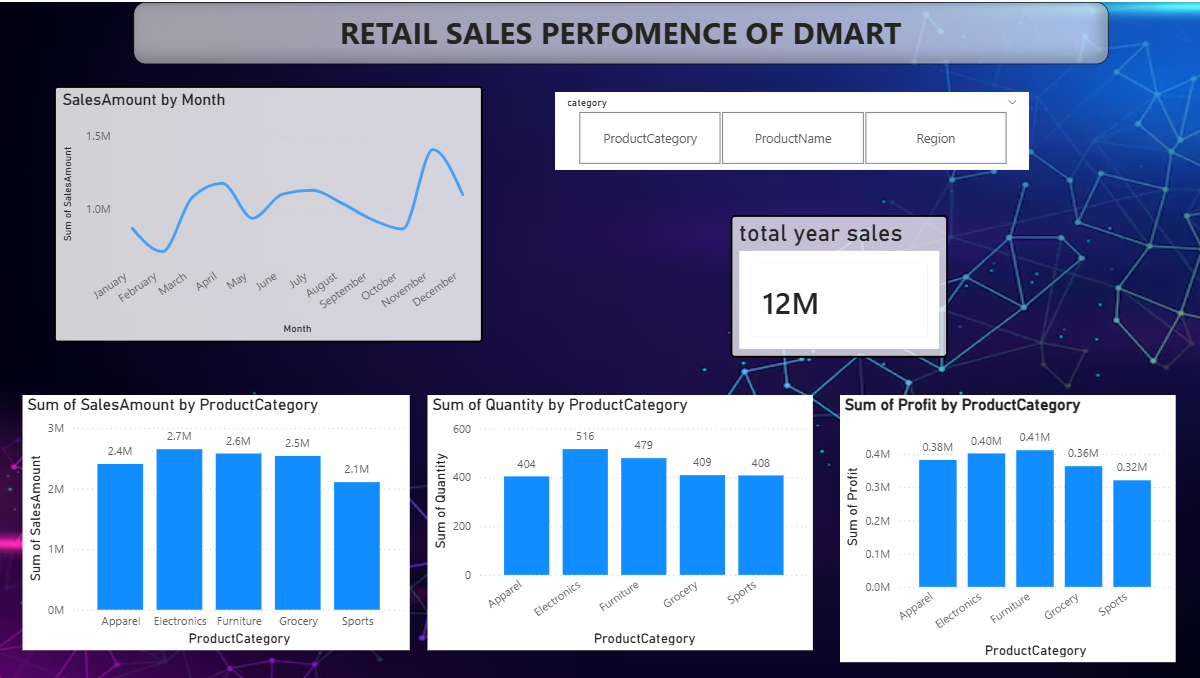

What the dashboard file says about the page in this screenshot:
{"tool":"powerbi","page":{"name":"Page 2","canvas":[1280,720],"ordinal":1},"visuals":[{"type":"textbox","box":[141.7,0,1033.7,66.1],"z":0},{"type":"lineChart","title":"SalesAmount by Month","fields":{"Y":["Sum(project data Retail_Sales_Performance.SalesAmount)"],"Category":["project data Retail_Sales_Performance.OrderDate.Variation.Date Hierarchy.Month"]},"box":[57.3,89.1,454.9,272],"z":1000},{"type":"slicer","fields":{"Values":["category 2.category"]},"box":[588.5,95.4,502.6,82.7],"z":2000},{"type":"columnChart","fields":{"Category":["project data Retail_Sales_Performance.ProductCategory","project data Retail_Sales_Performance.ProductName","project data Retail_Sales_Performance.Region"],"Y":["Sum(project data Retail_Sales_Performance.SalesAmount)"]},"box":[23.9,416.7,410.4,270.4],"z":3000},{"type":"columnChart","fields":{"Category":["project data Retail_Sales_Performance.ProductCategory","project data Retail_Sales_Performance.ProductName","project data Retail_Sales_Performance.Region"],"Y":["Sum(project data Retail_Sales_Performance.Quantity)"]},"box":[453.3,416.7,408.8,270.4],"z":4000},{"type":"columnChart","fields":{"Category":["project data Retail_Sales_Performance.ProductCategory","project data Retail_Sales_Performance.ProductName","project data Retail_Sales_Performance.Region"],"Y":["Sum(project data Retail_Sales_Performance.Profit)"]},"box":[890.7,416.7,356.3,283.1],"z":5000},{"type":"cardVisual","title":"total year sales","fields":{"Data":["project data Retail_Sales_Performance.total year sales"]},"box":[774.6,225.9,230.6,151.1],"z":5001}]}

Visuals, with their boxes in screenshot pixels (x1, y1, x2, y2), scaled from the page's 1280x720 canvas onto the 1200x678 screenshot:
textbox: [133,0,1102,62]
"SalesAmount by Month" lineChart: [54,84,480,340]
slicer - category 2.category: [552,90,1023,168]
columnChart - project data Retail_Sales_Performance.ProductCategory x project data Retail_Sales_Performance.ProductName: [22,392,407,647]
columnChart - project data Retail_Sales_Performance.ProductCategory x project data Retail_Sales_Performance.ProductName: [425,392,808,647]
columnChart - project data Retail_Sales_Performance.ProductCategory x project data Retail_Sales_Performance.ProductName: [835,392,1169,659]
"total year sales" cardVisual: [726,213,942,355]
